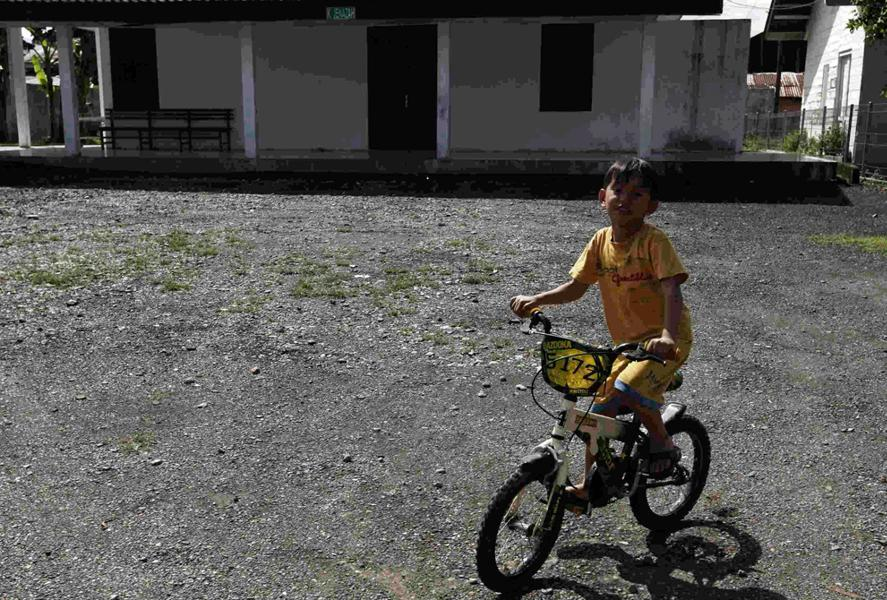person: (514, 156, 692, 510)
